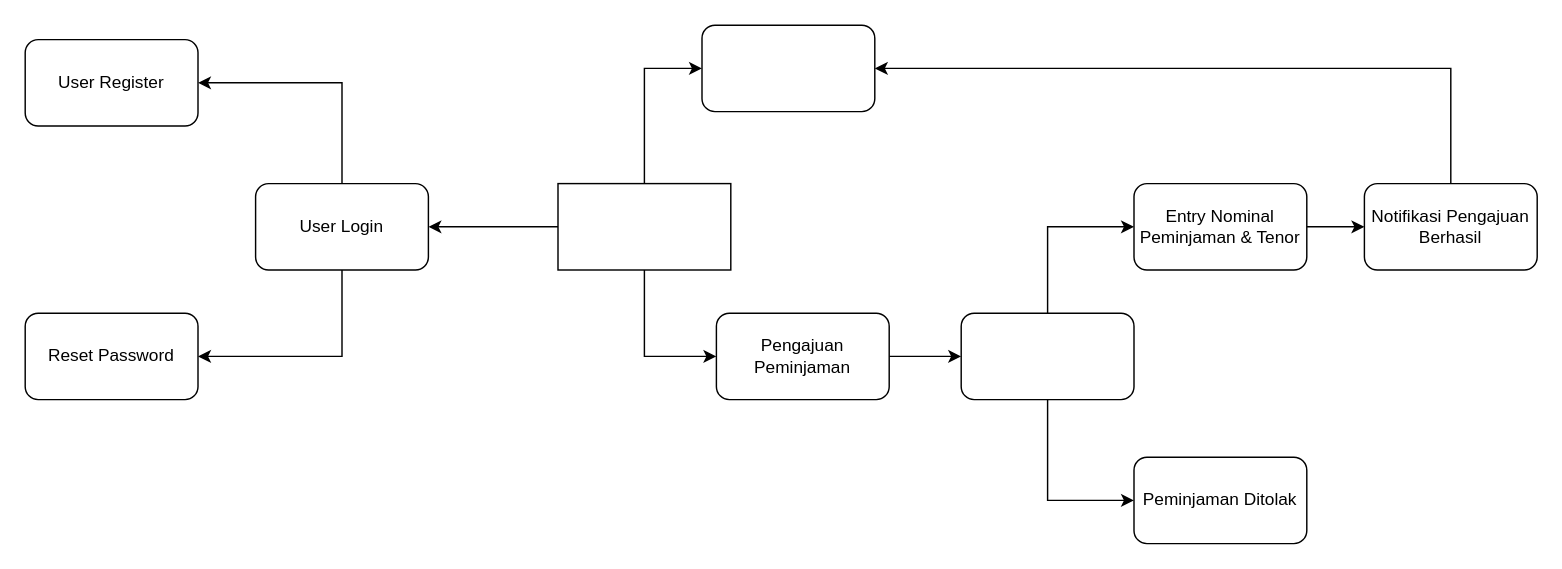
Some shapes in this 1562 by 569 pixel diagram are drawn without their labels. Each missing label, with the box of its shape:
Home Page: (557, 182, 731, 270)
Monitoring Sisa Hutang & Tagihan: (701, 24, 875, 112)
Pengecekan Riwayat Peminjaman: (960, 312, 1134, 400)
